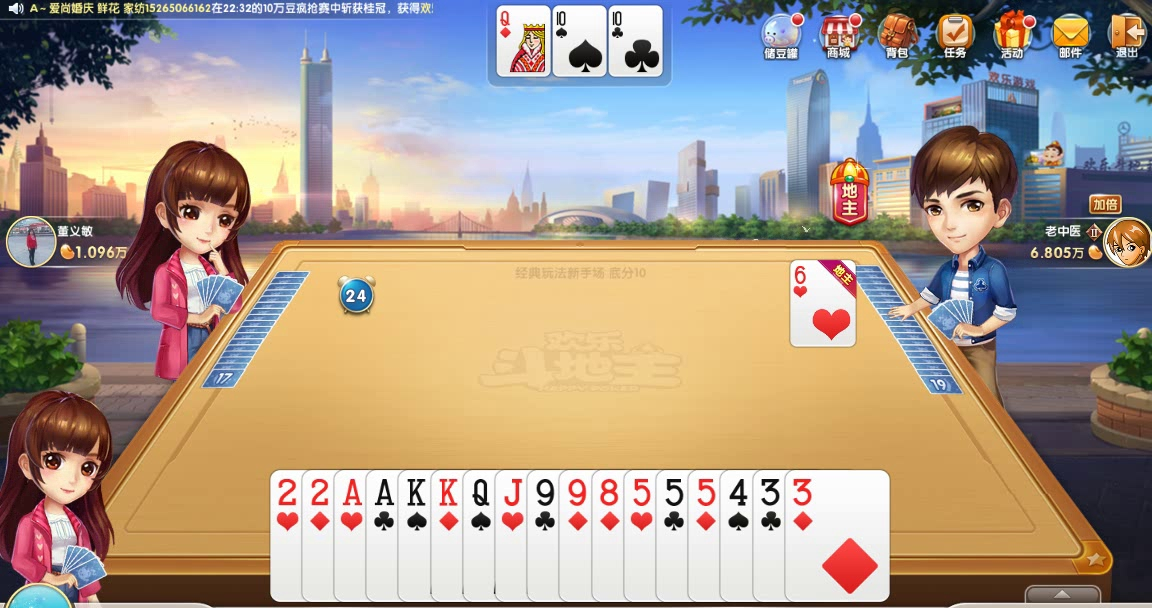10~2: (606, 6, 663, 77)
10~4: (550, 6, 607, 77)
11~3: (495, 469, 599, 601)
12~1: (494, 6, 551, 77)
12~4: (463, 469, 567, 601)
13~1: (429, 469, 533, 601)
13~4: (398, 469, 502, 601)
14~2: (366, 469, 470, 601)
14~3: (332, 469, 436, 601)
15~1: (302, 469, 406, 601)
15~3: (270, 469, 374, 601)
3~1: (786, 470, 890, 602)
3~2: (753, 470, 857, 602)
4~4: (719, 470, 823, 602)
5~1: (688, 470, 792, 602)
5~2: (656, 470, 760, 602)
5~3: (622, 470, 726, 602)
6~3: (789, 259, 855, 348)
8~1: (592, 470, 696, 602)
9~1: (559, 470, 663, 602)
9~2: (524, 470, 628, 602)
